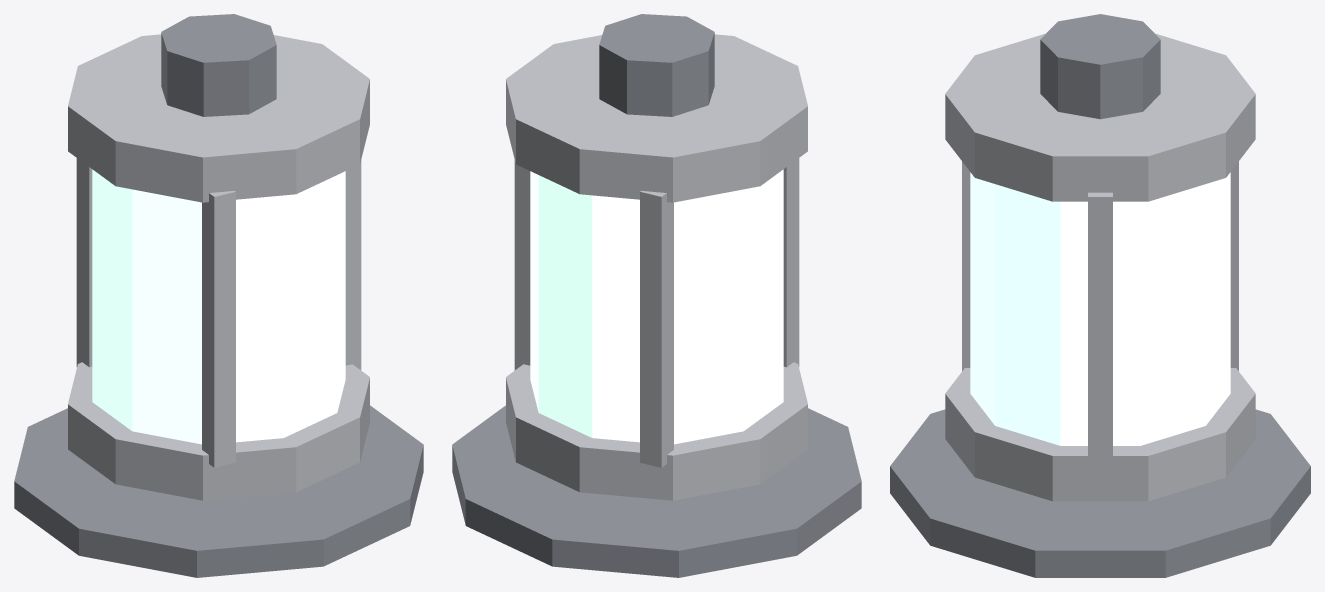
File: canister.glb
3 views of the same model, side by side, from view 1: azimuth 30°, elevation 25°; view 2: azimuth 150°, elevation 25°; view 3: azimuth 270°, elevation 25° (orthographic).
Visible parts, largest first — view 1: canister; view 2: canister; view 3: canister.
Boxes of the visible parts, x1=… form: canister: x1=14, y1=14, x2=423, y2=577; canister: x1=452, y1=14, x2=861, y2=577; canister: x1=890, y1=14, x2=1310, y2=577.
Bounding box in the file's own units: 0.7989 × 1 × 0.84.
